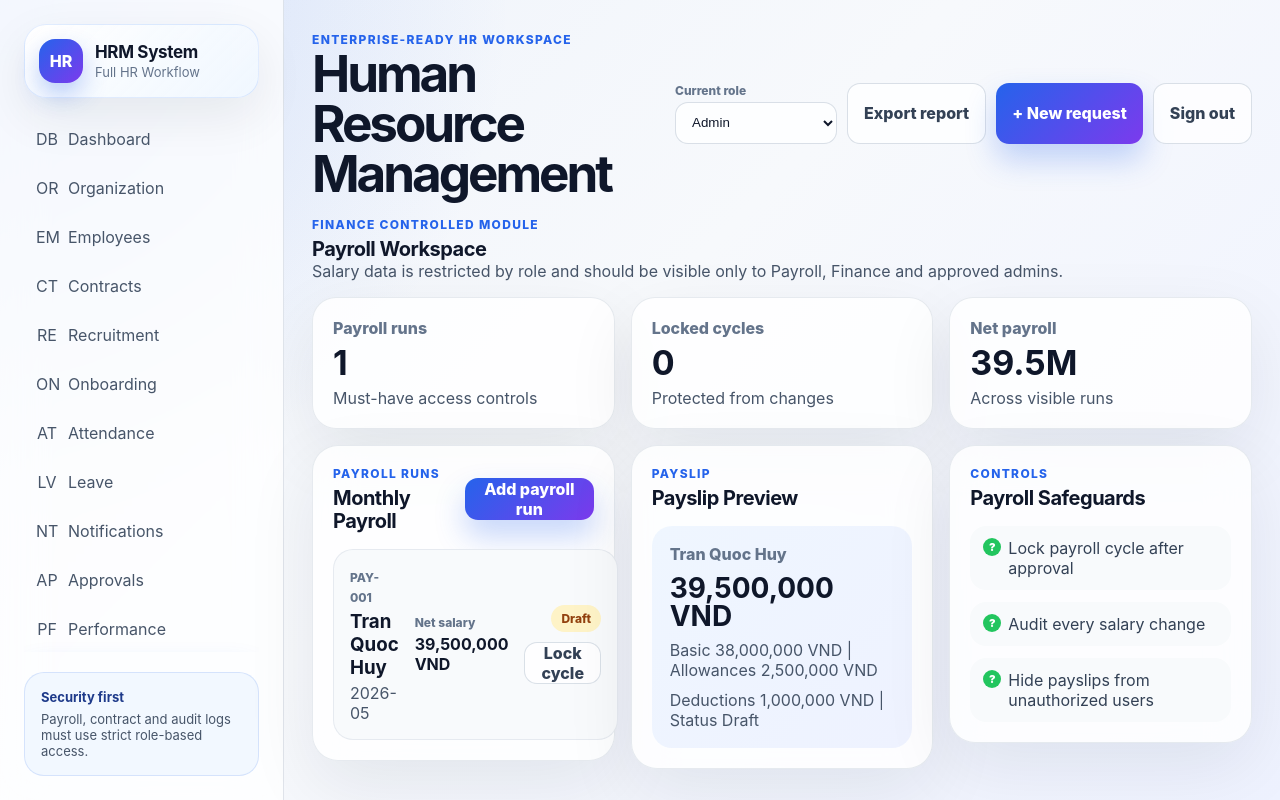
Test: HRM route navigation › blocks payroll route for unauthorized roles and restores it for payroll finance
Check: the heading "Payroll Workspace" is shown, box [312,236,486,260]
Select "Employee" in the dropdown labelled "Current role": (756, 123) [675,102,837,144]
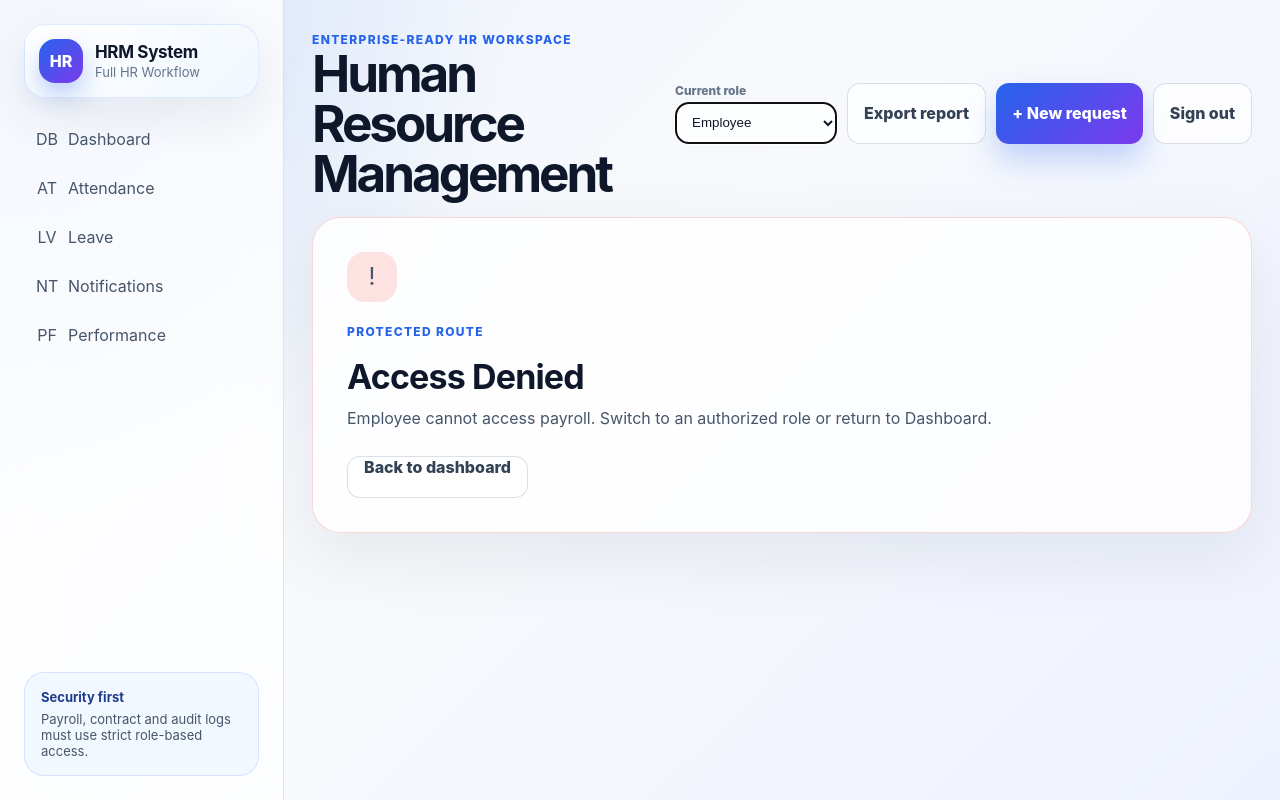
Check: the heading "Access Denied" is shown, box [347,356,584,396]
Check: the text "Employee cannot access payroll" is shown, box [347,408,992,428]
Select "Payroll/Finance" in the dropdown labelled "Current role": (756, 123) [675,102,837,144]
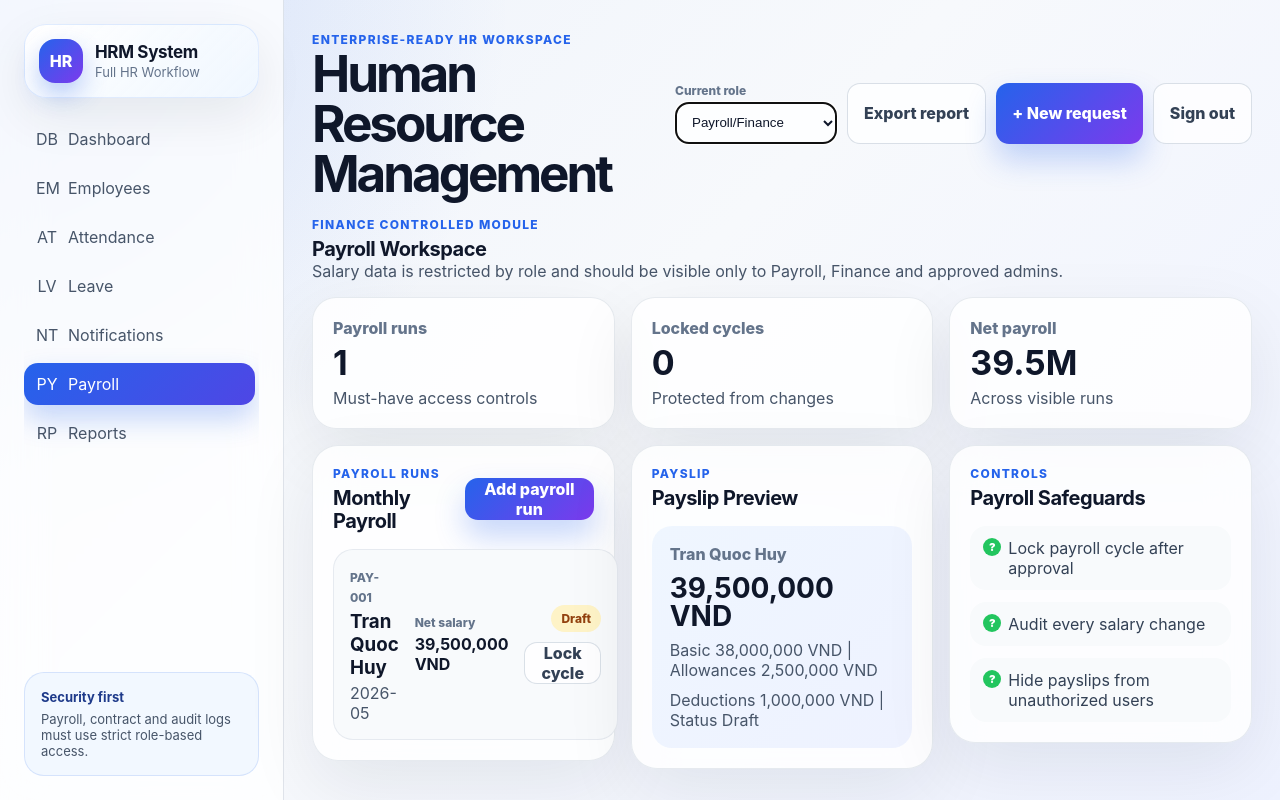
Check: the heading "Payroll Workspace" is shown, box [312,236,486,260]
